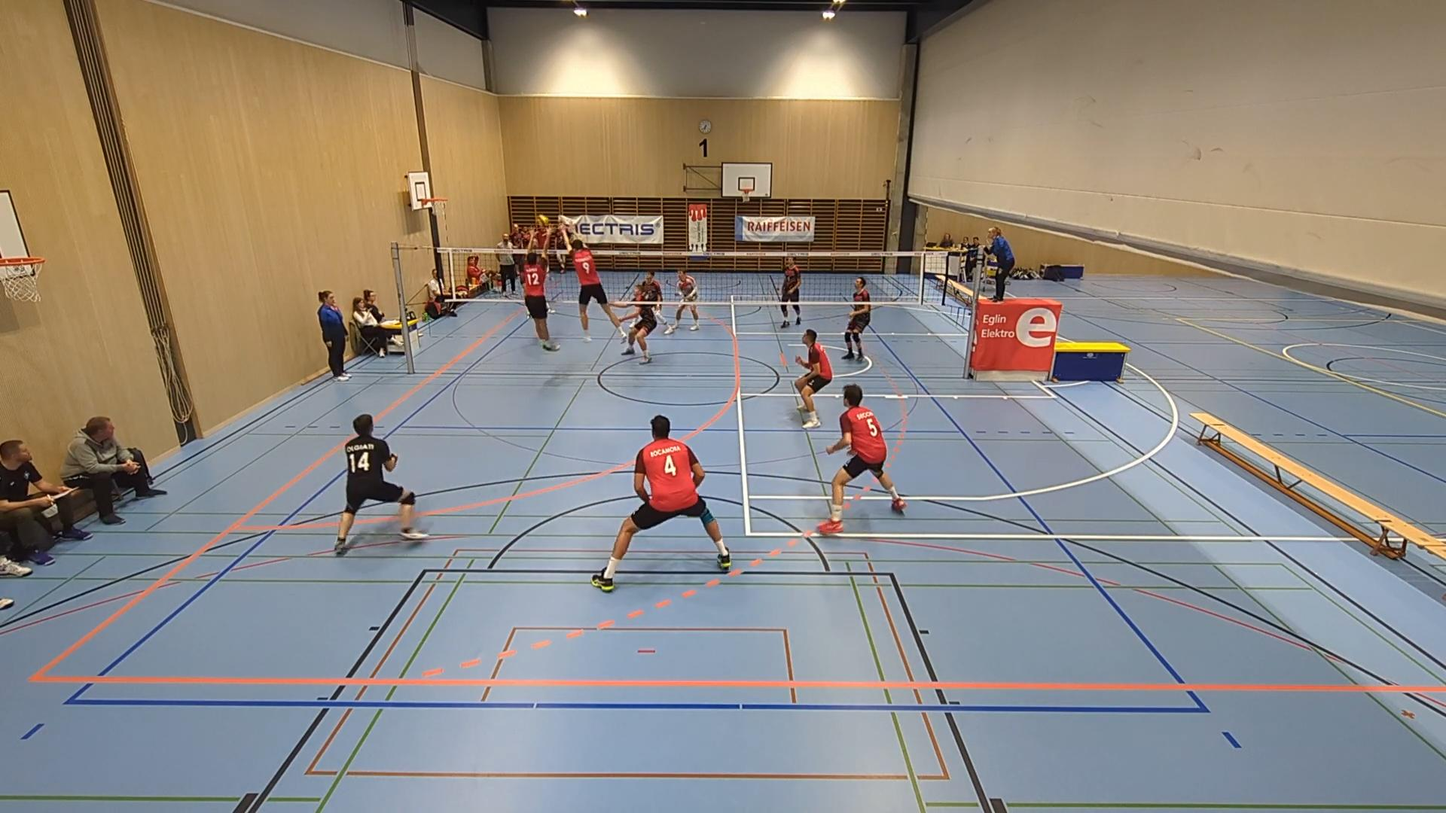Block: (563, 222, 638, 347), (521, 234, 560, 356)
Player: (591, 415, 731, 591), (334, 414, 427, 555), (818, 384, 905, 534), (794, 329, 832, 428), (622, 281, 660, 363), (842, 277, 871, 360), (665, 269, 700, 334), (779, 259, 801, 327), (639, 271, 663, 303)
ball: (534, 211, 551, 224)
